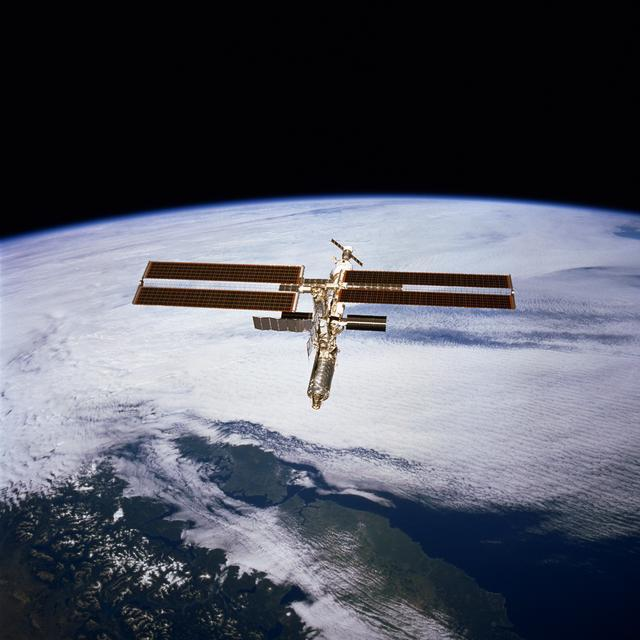medium_debris: (132, 240, 515, 408)
